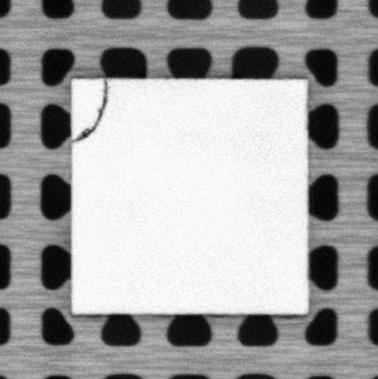DIE_INK: (77, 81, 107, 143)
